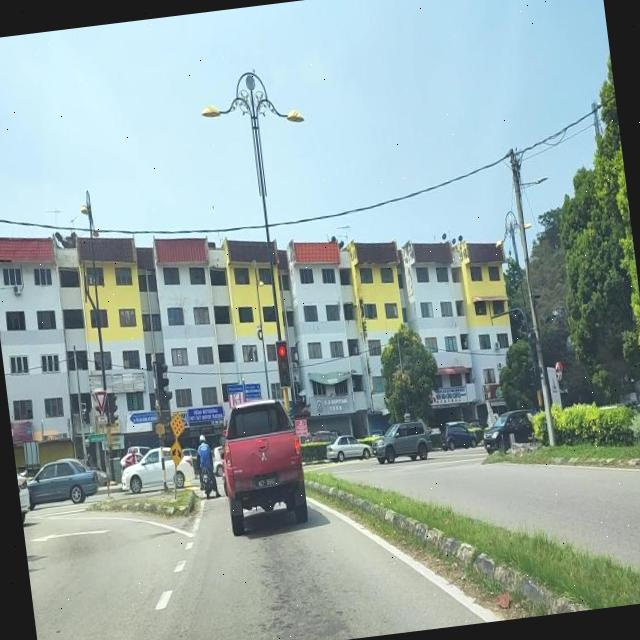red_light: (274, 339, 292, 386)
